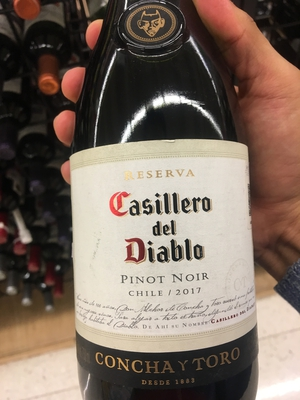casillero del diablo pinot noir: (65, 6, 274, 400)
